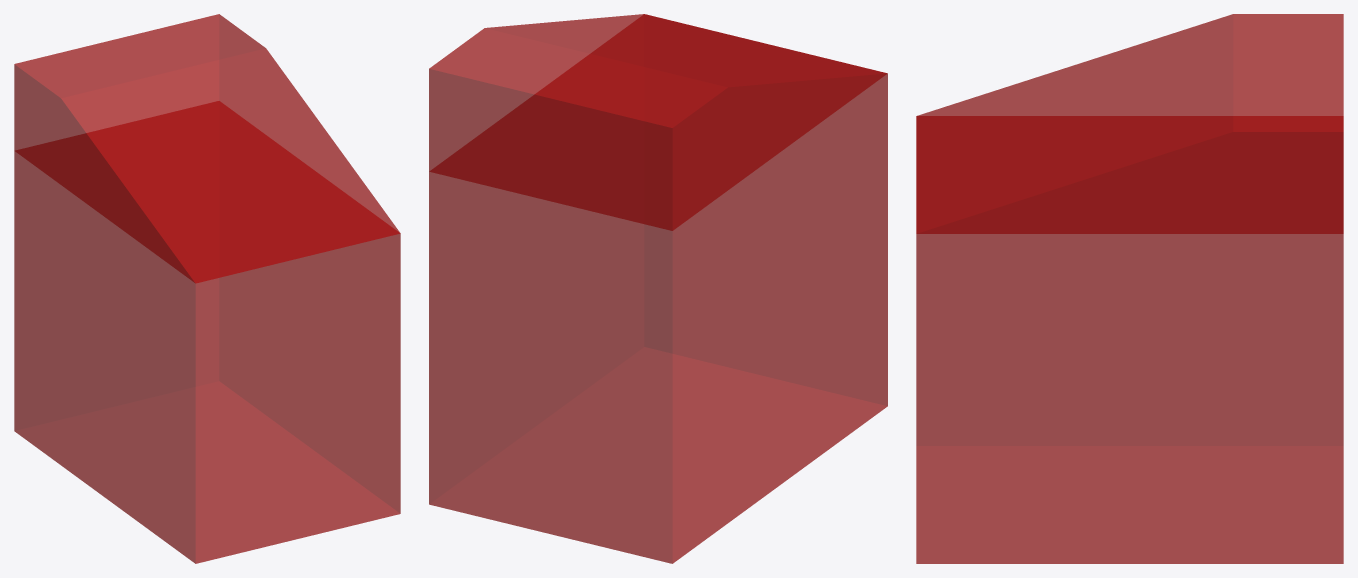
Rendered from SM_Env_Rock_Stairs_02_Collision.fbx.
3 renders of one model, left to right at view 1: azimuth 30°, elevation 25°; view 2: azimuth 150°, elevation 25°; view 3: azimuth 270°, elevation 25°, orthographic. The views are drawn at different scales.
Parts seen in each view (by area): view 1: SM_Env_Rock_Stairs_02_Collision; view 2: SM_Env_Rock_Stairs_02_Collision; view 3: SM_Env_Rock_Stairs_02_Collision.
Part boxes in pixels (x1,y1,x2,y2): SM_Env_Rock_Stairs_02_Collision: [14, 14, 400, 563]; SM_Env_Rock_Stairs_02_Collision: [429, 14, 887, 563]; SM_Env_Rock_Stairs_02_Collision: [916, 14, 1343, 563].
Size of the model in its own units: 282 by 482 by 432.
